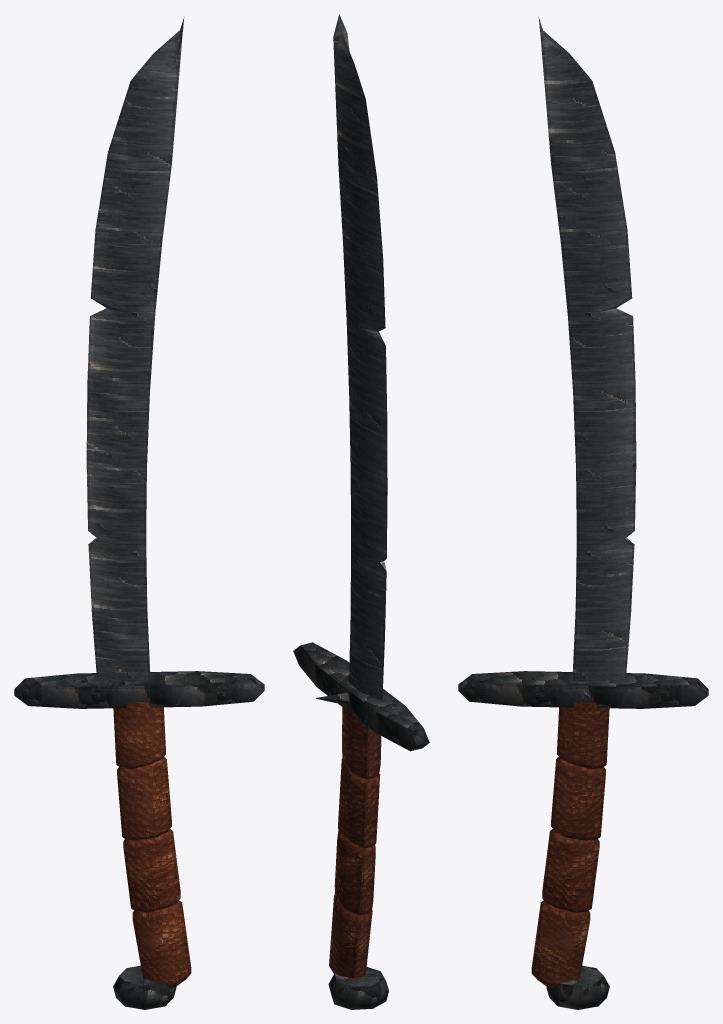
Rendered from grave_messer.glb.
The picture shows the model from 3 angles, left to right: view 1: azimuth 90°, elevation 25°; view 2: azimuth 210°, elevation 25°; view 3: azimuth 270°, elevation 25°; orthographic projection.
Visible parts, largest first — view 1: grave_messer; view 2: grave_messer; view 3: grave_messer.
Part boxes in pixels (x1,y1,x2,y2): grave_messer: [14, 17, 264, 1009]; grave_messer: [293, 14, 429, 1009]; grave_messer: [458, 17, 708, 1009].
Bounding box in the file's own units: 0.0562 × 0.7195 × 0.1649.
1 material, 1 textured.
